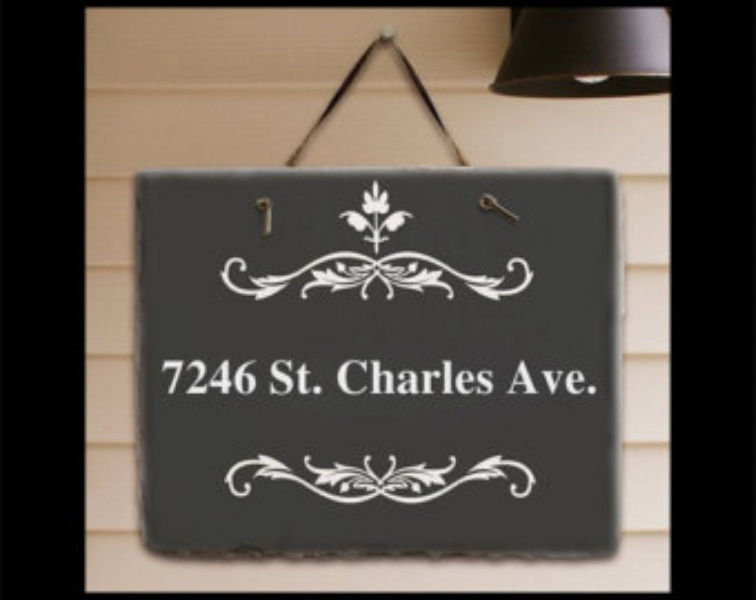text: (273, 358, 288, 398), (289, 358, 304, 398), (305, 358, 320, 398), (161, 358, 176, 396), (177, 358, 192, 396), (193, 358, 208, 396), (209, 358, 224, 396), (225, 358, 240, 396), (241, 358, 256, 396), (337, 358, 352, 396), (353, 358, 368, 396), (369, 358, 384, 396), (385, 358, 400, 396), (401, 358, 416, 396), (417, 358, 432, 396), (433, 358, 448, 396), (449, 358, 464, 396), (465, 358, 480, 396), (481, 358, 496, 396), (513, 358, 528, 396), (529, 358, 544, 396), (545, 358, 560, 396), (561, 358, 576, 396), (577, 358, 592, 396), (505, 358, 512, 396), (593, 358, 599, 396), (267, 358, 272, 398), (321, 358, 325, 398), (257, 358, 258, 396)
